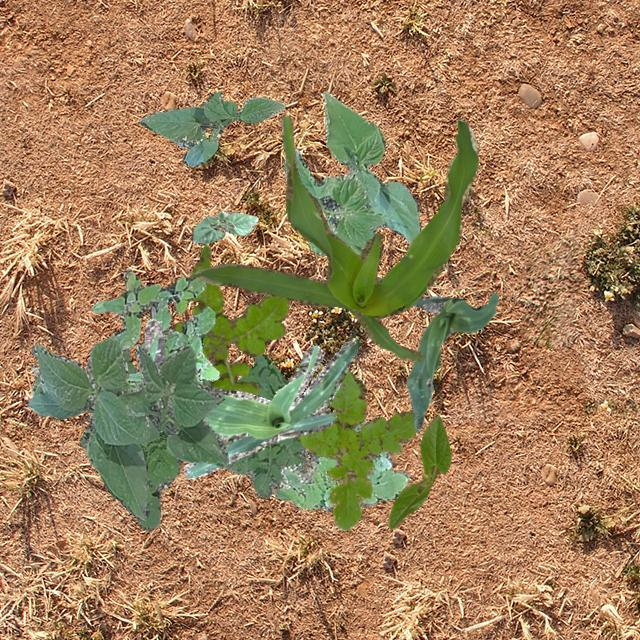crop: (190, 114, 478, 360), (28, 338, 228, 518), (144, 318, 356, 478), (282, 90, 420, 254), (406, 293, 498, 432), (138, 90, 284, 166), (386, 414, 448, 528), (190, 210, 256, 242)
weed: (79, 350, 308, 530), (298, 370, 416, 530), (172, 243, 290, 394), (90, 268, 218, 391), (272, 420, 408, 510)
